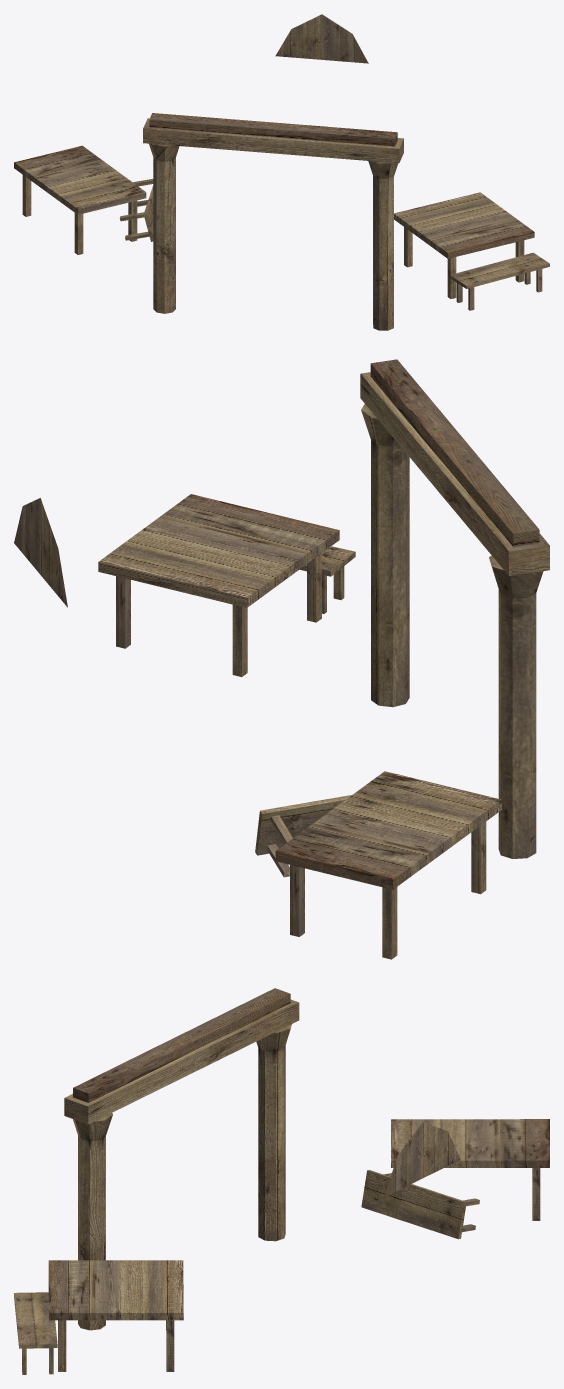
Rendered from celt_market2_wood.dae.
3 renders of one model, top to bottom at view 1: azimuth 30°, elevation 25°; view 2: azimuth 150°, elevation 25°; view 3: azimuth 270°, elevation 25°, orthographic. The views are drawn at different scales.
Visible parts, largest first — view 1: bench001; view 2: bench001; view 3: bench001.
Boxes of the visible parts, left/top/right/bottom form: bench001: left=14, top=14, right=549, bottom=330; bench001: left=14, top=359, right=549, bottom=959; bench001: left=14, top=988, right=549, bottom=1374.
Bounding box in the file's own units: 13.89 × 8.12 × 16.05.
